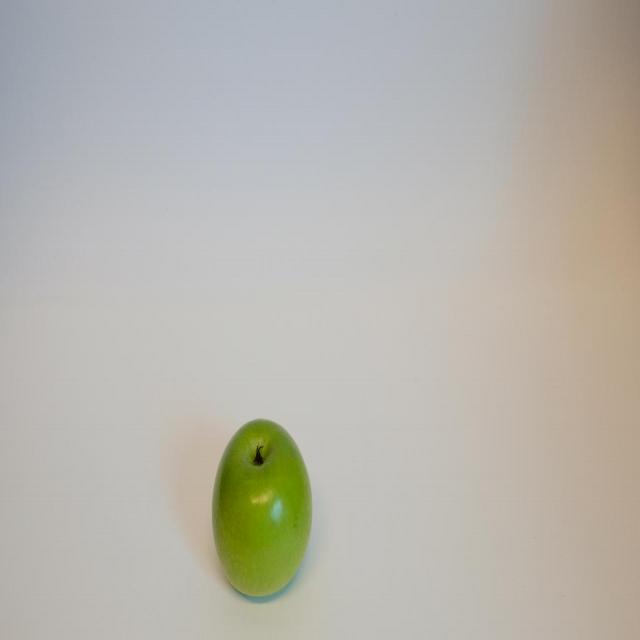apple: (211, 415, 314, 600)
